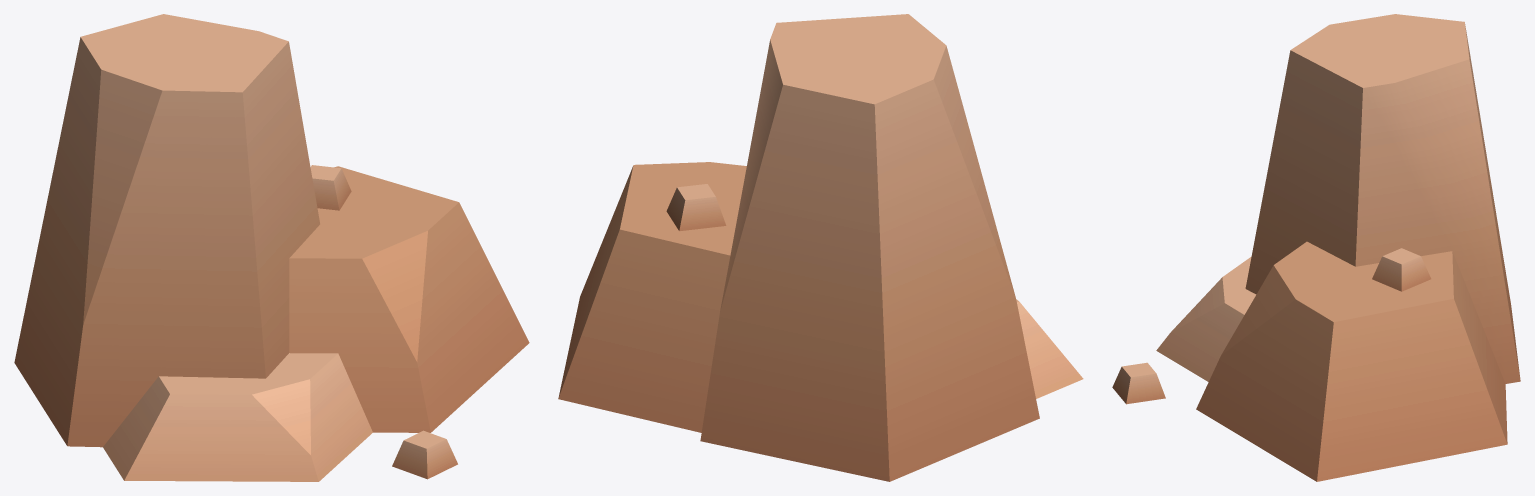
File: survival-kit-rock-sand-a.glb
3 views of the same model, side by side, from view 1: azimuth 30°, elevation 25°; view 2: azimuth 150°, elevation 25°; view 3: azimuth 270°, elevation 25° (orthographic). The views are drawn at different scales.
Parts seen in each view (by area): view 1: rock-sand-a; view 2: rock-sand-a; view 3: rock-sand-a.
Part boxes in pixels (box(x1,y1,x2,y2)): rock-sand-a: box(14, 14, 529, 481); rock-sand-a: box(558, 14, 1083, 481); rock-sand-a: box(1112, 14, 1520, 481).
Size of the model in its own units: 0.5552 by 0.3927 by 0.4845.
1 material, 1 textured.
